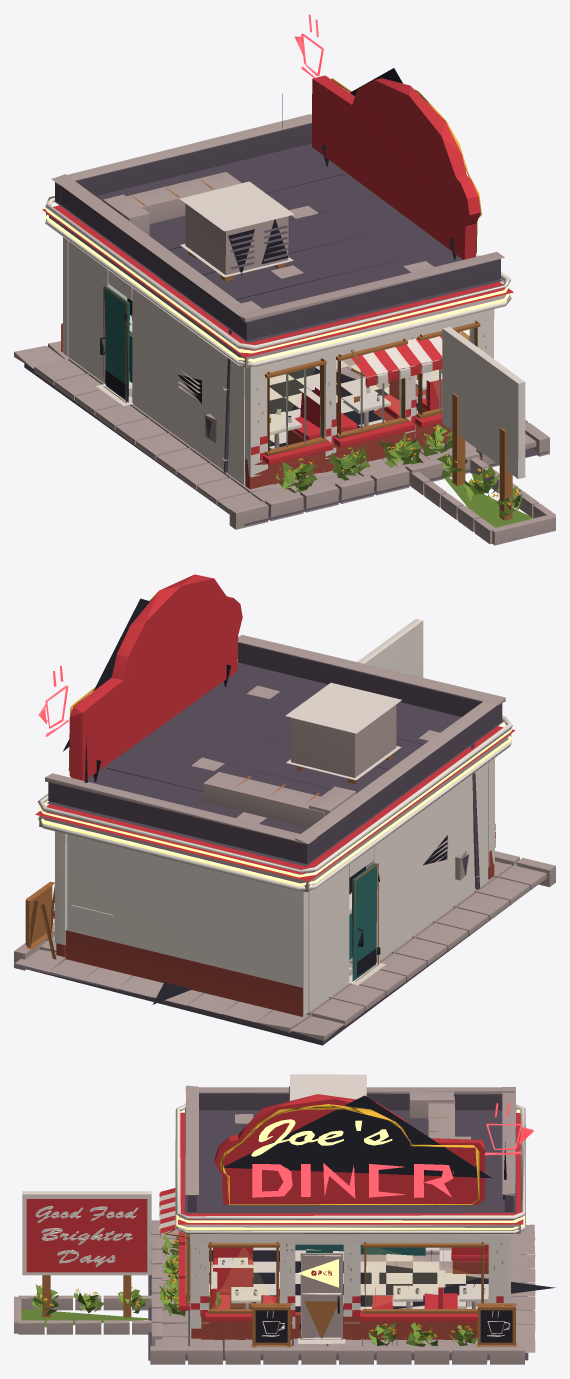
Rendered from bld.joes-diner.lod1.glb.
3 views of the same model, one above another, from view 1: azimuth 30°, elevation 25°; view 2: azimuth 150°, elevation 25°; view 3: azimuth 270°, elevation 25° (orthographic). The views are drawn at different scales.
Parts seen in each view (by area): view 1: roof, object 9, object 11, interior, object 15, object 12, object 7, object 6, object 8, door_service, object 5; view 2: roof, object 9, object 11, object 6, door_service, object 5, object 15, interior; view 3: roof, object 11, object 9, interior, object 12, object 15, door_front, object 6, object 7, object 8, object 13, object 5 (+1 smaller).
Boxes of the visible parts, x1,y1,x2,y2 form: roof: [42, 14, 513, 368]; object 9: [63, 237, 525, 485]; object 11: [14, 334, 555, 545]; interior: [127, 298, 442, 449]; object 15: [264, 320, 512, 520]; object 12: [251, 336, 442, 465]; object 7: [276, 424, 522, 517]; object 6: [61, 323, 451, 489]; object 8: [282, 427, 533, 527]; door_service: [100, 286, 129, 402]; object 5: [24, 329, 547, 525]; roof: [35, 574, 515, 892]; object 9: [53, 619, 495, 1015]; object 11: [14, 802, 555, 1041]; object 6: [56, 850, 494, 1016]; door_service: [351, 863, 380, 981]; object 5: [15, 744, 511, 1045]; object 15: [25, 881, 56, 959]; interior: [71, 866, 365, 1004]; roof: [175, 1074, 533, 1234]; object 11: [14, 1220, 535, 1364]; object 9: [22, 1191, 511, 1343]; interior: [209, 1244, 555, 1311]; object 12: [26, 1188, 510, 1321]; object 15: [32, 1205, 516, 1347]; door_front: [297, 1253, 343, 1340]; object 6: [191, 1312, 477, 1339]; object 7: [32, 1235, 477, 1345]; object 8: [21, 1243, 475, 1346]; object 13: [255, 1310, 512, 1342]; object 5: [148, 1110, 528, 1360].
Size of the model in its own units: 6.94 by 6.4 by 12.21.
